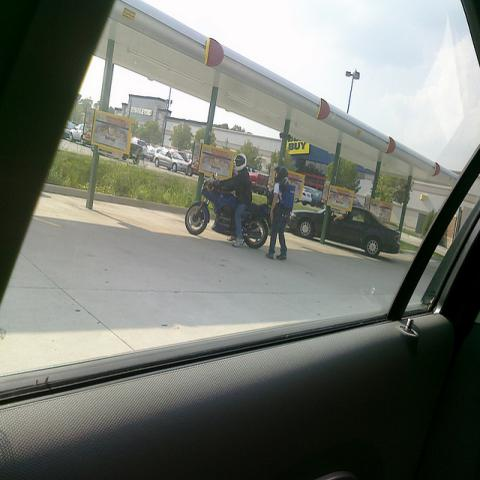car: (287, 205, 401, 257), (154, 146, 188, 173), (122, 139, 142, 165), (68, 122, 85, 146), (131, 137, 148, 161), (294, 188, 312, 206), (61, 121, 75, 139), (311, 191, 323, 208)
motorcycle: (183, 168, 272, 250)
